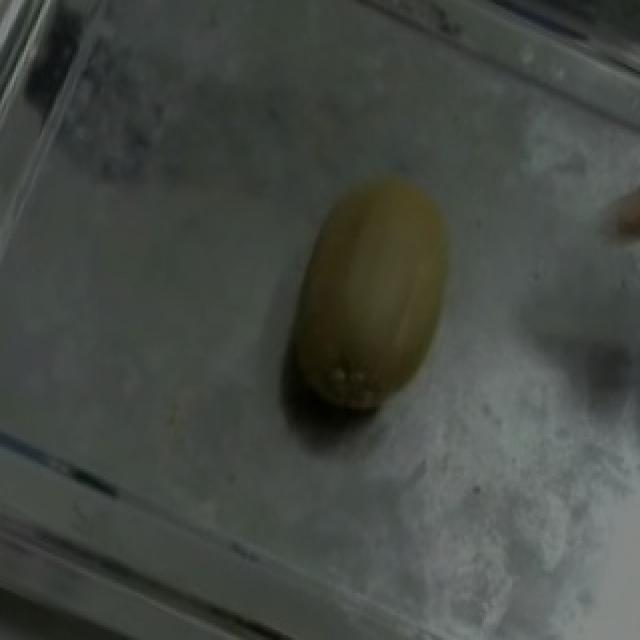Fruit: (240, 136, 500, 464)
